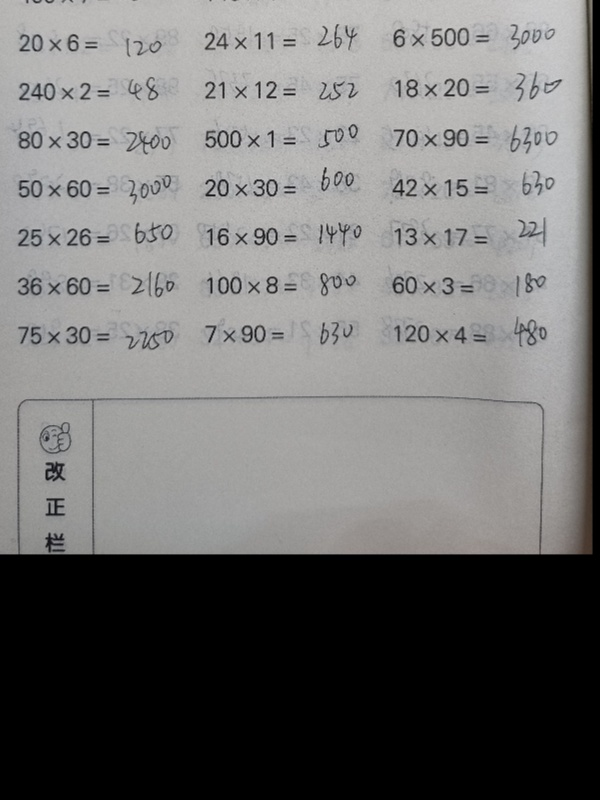equation: (197, 171, 377, 206), (384, 19, 564, 54), (10, 318, 190, 352), (10, 268, 190, 302), (384, 268, 564, 302), (199, 268, 379, 302), (10, 220, 190, 254), (10, 123, 190, 157), (197, 122, 377, 156), (386, 121, 566, 155), (196, 72, 376, 106), (386, 70, 566, 104), (197, 24, 377, 58), (385, 317, 565, 350), (198, 316, 378, 349), (387, 220, 567, 253), (198, 220, 378, 253), (11, 172, 191, 205), (384, 171, 564, 204), (11, 75, 191, 108), (12, 26, 192, 59), (10, 0, 190, 10), (199, 0, 379, 9)
